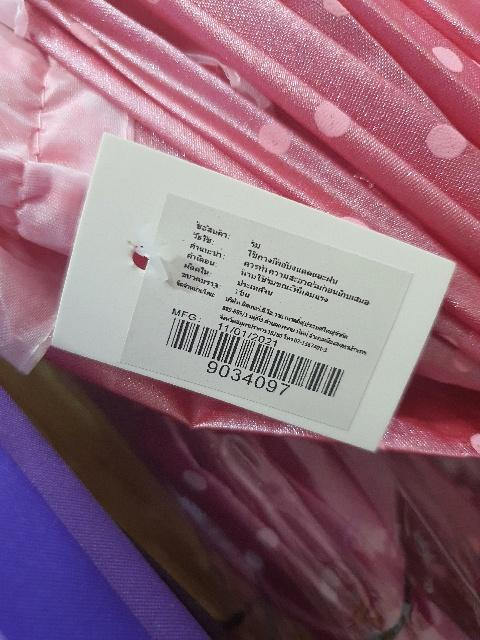Barcode: (165, 317, 345, 403)
